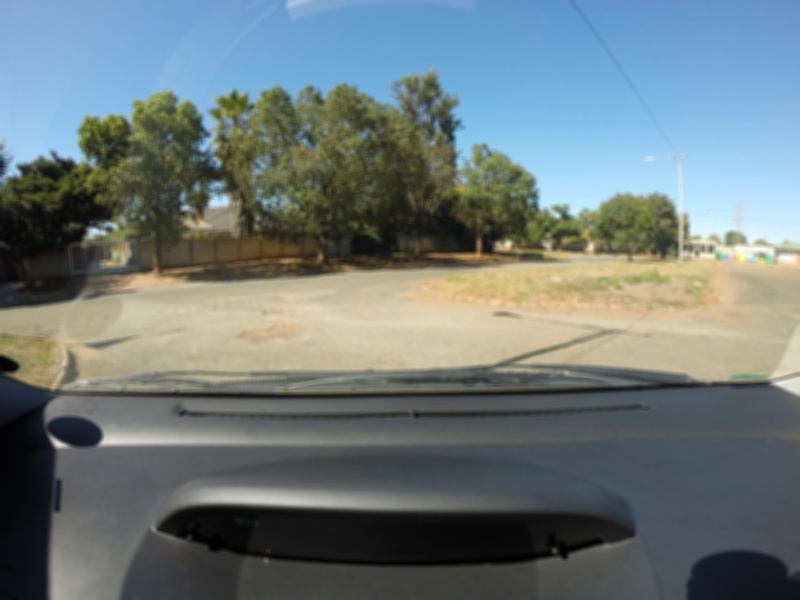pothole: (237, 326, 300, 342), (264, 310, 298, 317), (166, 329, 189, 333)
